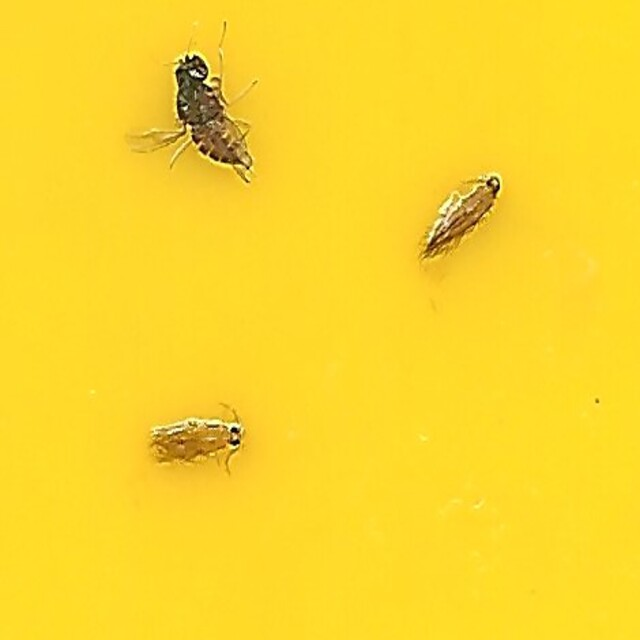Trichoptera: (417, 165, 504, 273), (136, 406, 242, 475)
